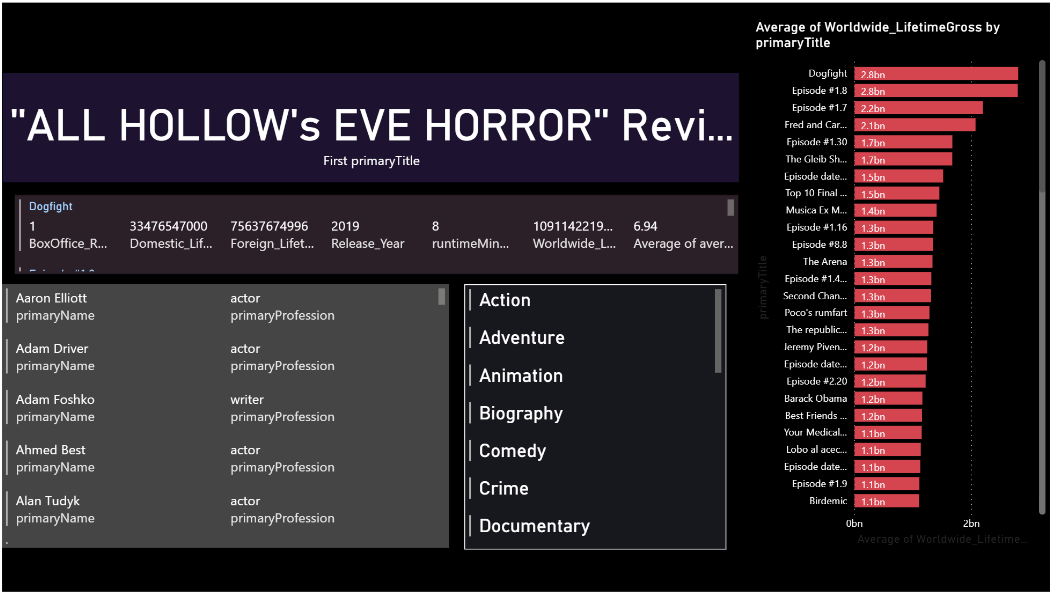

This screenshot's page, from the dashboard's own definition file:
{"tool":"tableau","page":{"name":"Dashboard 1","canvas":[1000,1000],"units":"permille","ordinal":0},"visuals":[{"type":"worksheet","title":"Sheet 2 (2)","mark":"Circle","box":[5.3,9.3,228.8,490.7]},{"type":"worksheet","title":"Sheet 6","mark":"Automatic","rows":["Domestic_LifetimeGross","Foreign_LifetimeGross"],"cols":["startYear"],"box":[234,9.3,457.5,490.7]},{"type":"worksheet","title":"Sheet 2","mark":"Automatic","rows":["Franchise_Name"],"cols":["Worldwide_Box_Office"],"box":[691.5,9.3,228.8,981.4]},{"type":"legend","title":"Sheet 2 (2)","param":"[federated.03vbp611k8hdht1e9fm7d1oq0mfk].[sum:Worldwide_Box_Office:qk]","box":[920.3,9.3,74.4,27.9]},{"type":"legend","title":"Sheet 5","param":"[federated.0r2nrgm14vzdhv1fhs53w0p6ha99].[sum:Worldwide_LifetimeGross:qk]","box":[920.3,37.2,74.4,84.8]},{"type":"legend","title":"Sheet 6","param":"[federated.0r2nrgm14vzdhv1fhs53w0p6ha99].[sum:Domestic_LifetimeGross:qk]","box":[920.3,121.9,74.4,84.8]},{"type":"worksheet","title":"Sheet 3","mark":"Automatic","rows":["Brand_Name"],"cols":["Lifetime_Gross (fct_imdb_brands_list)"],"box":[5.3,500,457.8,490.7]},{"type":"worksheet","title":"Sheet 5","mark":"Automatic","box":[463.1,500,228.4,490.7]}]}

Visuals, with their boxes on the dashboard's canvas, which has no fixed pixel size, in thousandths of its width and height (x1, y1, x2, y2). These are canvas units, not pixel positions in the 1050x593 screenshot, which may show the page scaled, cropped or inside an application window:
"Sheet 2 (2)" worksheet (Circle marks): [5, 9, 234, 500]
"Sheet 6" worksheet: [234, 9, 692, 500]
"Sheet 2" worksheet: [692, 9, 920, 991]
"Sheet 2 (2)" legend: [920, 9, 995, 37]
"Sheet 5" legend: [920, 37, 995, 122]
"Sheet 6" legend: [920, 122, 995, 207]
"Sheet 3" worksheet: [5, 500, 463, 991]
"Sheet 5" worksheet: [463, 500, 692, 991]
